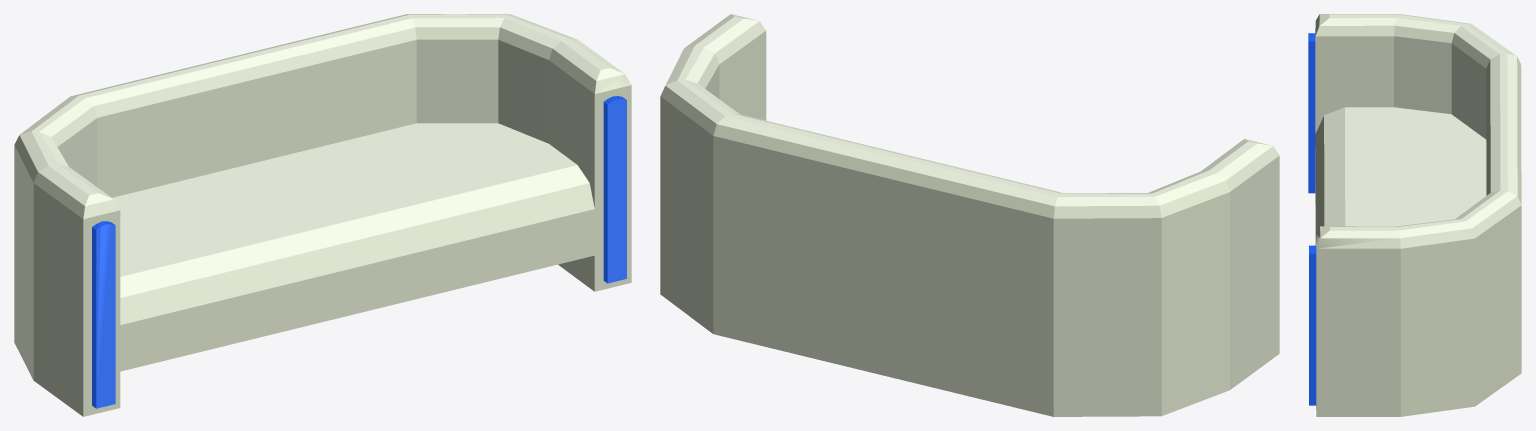
The model's file is Sofa_White.glb.
The picture shows the model from 3 angles, left to right: view 1: azimuth 30°, elevation 25°; view 2: azimuth 150°, elevation 25°; view 3: azimuth 270°, elevation 25°; orthographic projection. The views are drawn at different scales.
Parts seen in each view (by area): view 1: Sofa_White; view 2: Sofa_White; view 3: Sofa_White.
Part boxes in pixels (x1,y1,x2,y2): Sofa_White: (14,14,631,416); Sofa_White: (660,14,1279,416); Sofa_White: (1308,14,1521,416).
Size of what is drawn, in the model's own units: 3.1 by 1.15 by 1.23.
Materials: 1 (1 with a texture image).
